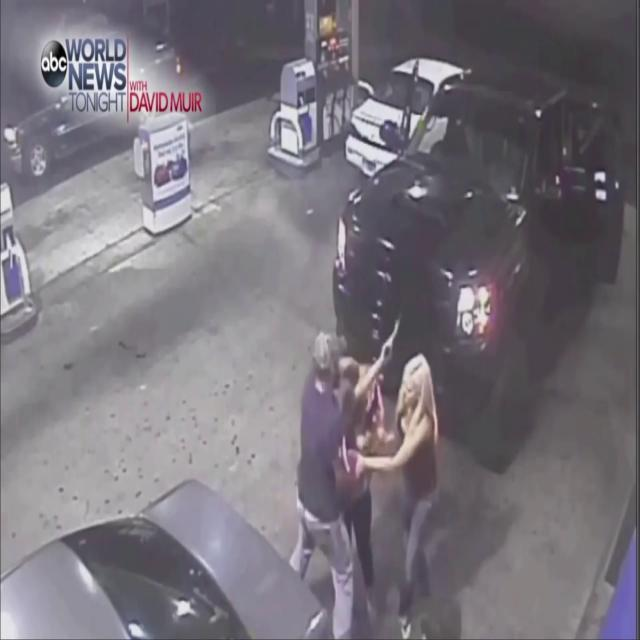gun: (382, 318, 402, 360)
